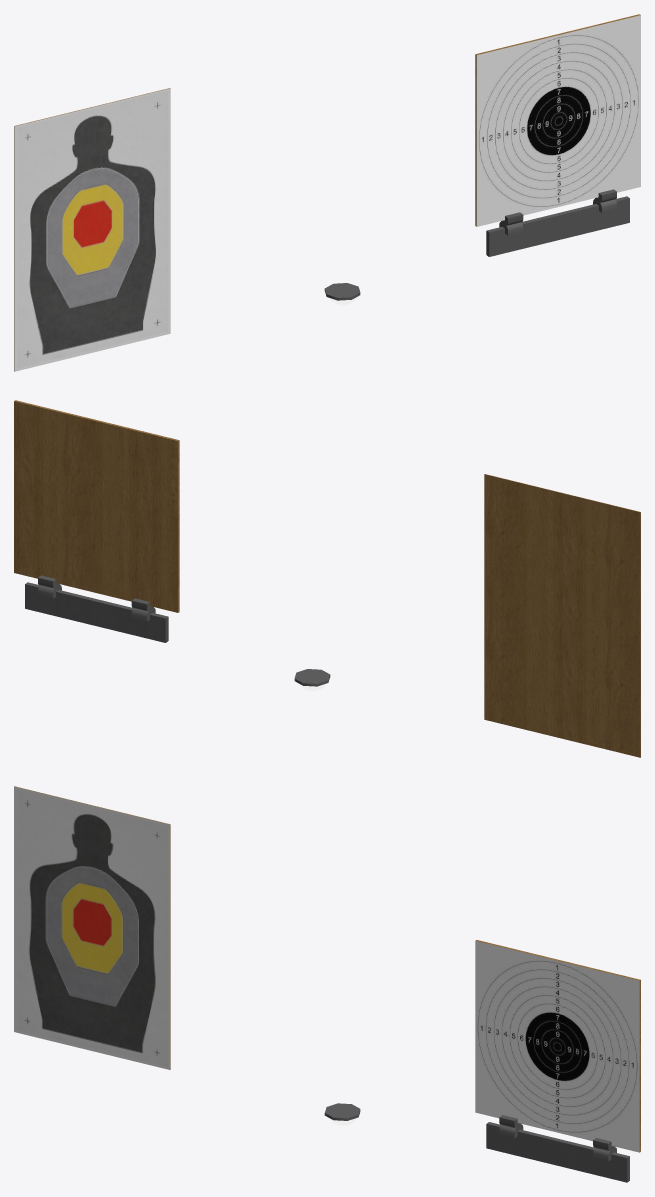
Rendered from targets_light.glb.
The picture shows the model from 3 angles, top to bottom: view 1: azimuth 30°, elevation 25°; view 2: azimuth 150°, elevation 25°; view 3: azimuth 330°, elevation 25°; orthographic projection.
Parts seen in each view (by area): view 1: target_1, target_2, light; view 2: target_1, target_2, light; view 3: target_1, target_2, light.
Boxes of the visible parts, x1,y1,x2,y2 form: target_1: (14, 88, 170, 371); target_2: (475, 14, 640, 256); light: (324, 283, 360, 305); target_1: (484, 474, 640, 757); target_2: (14, 400, 179, 642); light: (294, 669, 330, 691); target_1: (14, 786, 170, 1069); target_2: (475, 940, 640, 1182); light: (324, 1103, 360, 1125).
Size of the model in its own units: 4 by 1.58 by 0.2047.
4 materials, 3 textured.
